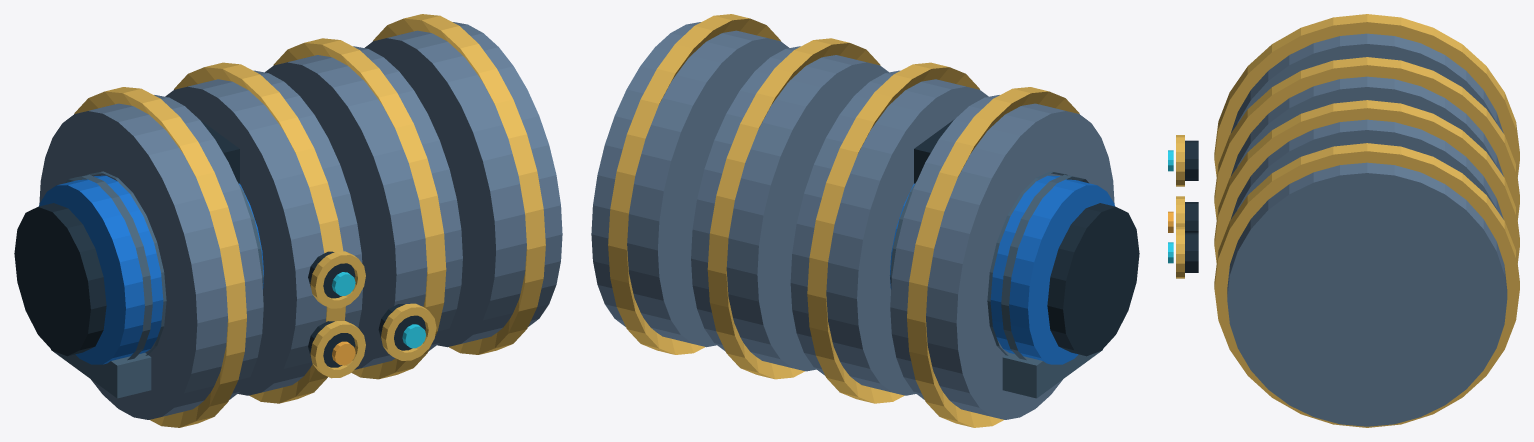
Rendered from 08_L83_SolarWingStarboardHingeAssembly.fbx.
3 views of the same model, side by side, from view 1: azimuth 30°, elevation 25°; view 2: azimuth 150°, elevation 25°; view 3: azimuth 270°, elevation 25° (orthographic). The views are drawn at different scales.
Parts seen in each view (by area): view 1: SolarWingStarboardHingeAssembly; view 2: SolarWingStarboardHingeAssembly; view 3: SolarWingStarboardHingeAssembly.
Boxes of the visible parts, x1=… form: SolarWingStarboardHingeAssembly: x1=14, y1=14, x2=562, y2=427; SolarWingStarboardHingeAssembly: x1=591, y1=14, x2=1139, y2=427; SolarWingStarboardHingeAssembly: x1=1168, y1=14, x2=1519, y2=427.
Size of the model in its own units: 104 by 72 by 82.95.
